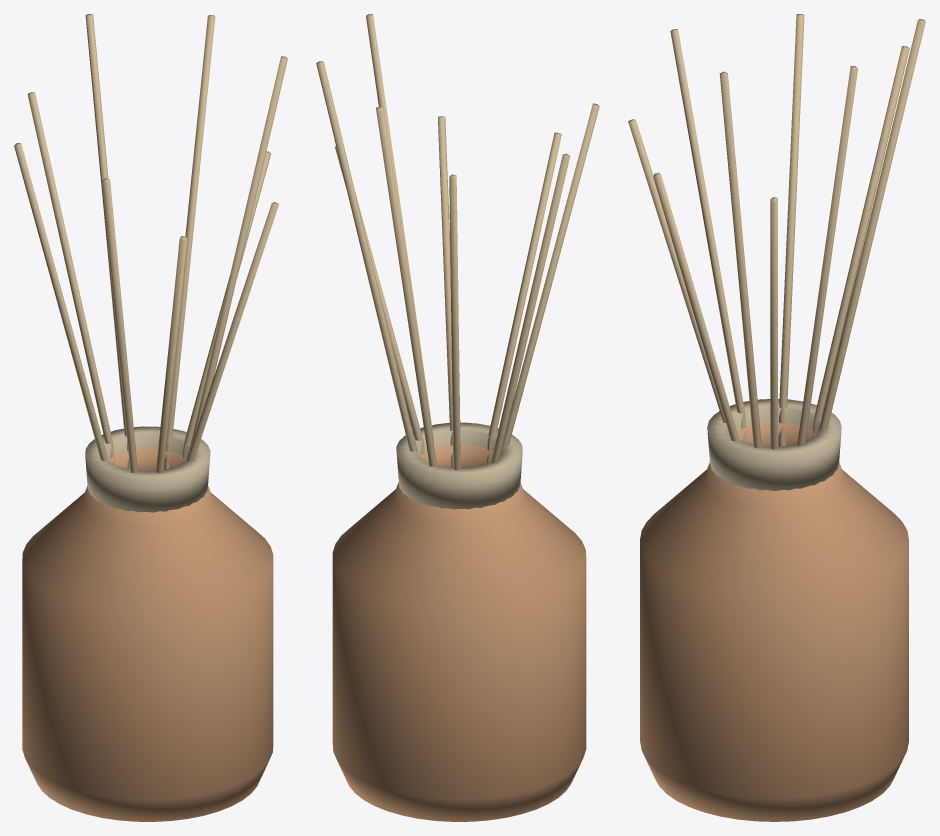
The model's file is reed_diffuser.glb.
The picture shows the model from 3 angles, left to right: view 1: azimuth 30°, elevation 25°; view 2: azimuth 150°, elevation 25°; view 3: azimuth 270°, elevation 25°; orthographic projection. The views are drawn at different scales.
Visible parts, largest first — view 1: reed_diffuser__body, reed_diffuser__reeds, reed_diffuser__accent; view 2: reed_diffuser__body, reed_diffuser__reeds, reed_diffuser__accent; view 3: reed_diffuser__body, reed_diffuser__reeds, reed_diffuser__accent.
Boxes of the visible parts, x1,y1,x2,y2 form: reed_diffuser__body: (22,448,273,821); reed_diffuser__reeds: (14,14,287,473); reed_diffuser__accent: (85,426,210,512); reed_diffuser__body: (332,445,586,821); reed_diffuser__reeds: (316,14,599,470); reed_diffuser__accent: (396,422,522,509); reed_diffuser__body: (640,422,908,821); reed_diffuser__reeds: (628,14,925,449); reed_diffuser__accent: (707,399,841,490).
Bounding box in the file's own units: 0.112 × 0.3103 × 0.1106.
